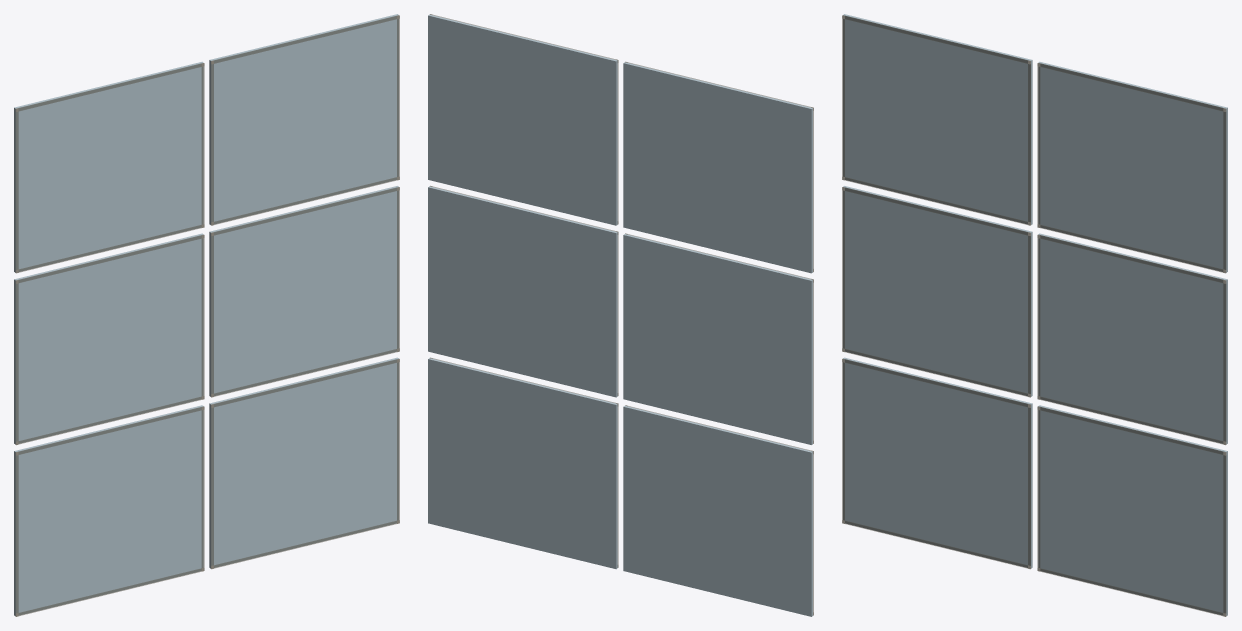
The model's file is BedroomWindowGlass.glb.
The picture shows the model from 3 angles, left to right: view 1: azimuth 30°, elevation 25°; view 2: azimuth 150°, elevation 25°; view 3: azimuth 330°, elevation 25°; orthographic projection.
Visible parts, largest first — view 1: ClearPane_0_2, ClearPane_0_1, ClearPane_0_0, ClearPane_1_0, ClearPane_1_2, ClearPane_1_1, BottomTopDust.007, BottomTopDust.009, BottomTopDust.010, BottomTopDust.011, BottomTopDust.008, BottomTopDust.006 (+12 smaller); view 2: ClearPane_0_2, ClearPane_0_0, ClearPane_0_1, ClearPane_1_0, ClearPane_1_1, ClearPane_1_2; view 3: ClearPane_1_2, ClearPane_1_1, ClearPane_1_0, ClearPane_0_0, ClearPane_0_2, ClearPane_0_1, BottomTopDust.001, BottomTopDust.003, BottomTopDust.004, BottomTopDust.005, BottomTopDust, BottomTopDust.002 (+12 smaller).
Part boxes in pixels (left/top/right/bottom): ClearPane_0_2: left=14, top=61, right=203, bottom=272; ClearPane_0_1: left=14, top=233, right=203, bottom=444; ClearPane_0_0: left=14, top=405, right=203, bottom=616; ClearPane_1_0: left=209, top=357, right=398, bottom=568; ClearPane_1_2: left=209, top=14, right=398, bottom=224; ClearPane_1_1: left=209, top=186, right=398, bottom=396; BottomTopDust.007: left=211, top=359, right=399, bottom=407; BottomTopDust.009: left=211, top=187, right=399, bottom=235; BottomTopDust.010: left=211, top=177, right=399, bottom=225; BottomTopDust.011: left=211, top=15, right=399, bottom=63; BottomTopDust.008: left=211, top=348, right=399, bottom=397; BottomTopDust.006: left=211, top=520, right=399, bottom=568; ClearPane_0_2: left=623, top=62, right=812, bottom=273; ClearPane_0_0: left=623, top=405, right=812, bottom=616; ClearPane_0_1: left=623, top=234, right=812, bottom=444; ClearPane_1_0: left=428, top=358, right=617, bottom=569; ClearPane_1_1: left=428, top=186, right=617, bottom=397; ClearPane_1_2: left=428, top=14, right=617, bottom=225; ClearPane_1_2: left=1038, top=61, right=1227, bottom=272; ClearPane_1_1: left=1038, top=233, right=1227, bottom=444; ClearPane_1_0: left=1038, top=405, right=1227, bottom=616; ClearPane_0_0: left=843, top=357, right=1032, bottom=568; ClearPane_0_2: left=843, top=14, right=1032, bottom=224; ClearPane_0_1: left=843, top=186, right=1032, bottom=396; BottomTopDust.001: left=842, top=359, right=1030, bottom=407; BottomTopDust.003: left=842, top=187, right=1030, bottom=235; BottomTopDust.004: left=842, top=177, right=1030, bottom=225; BottomTopDust.005: left=842, top=15, right=1030, bottom=63; BottomTopDust: left=842, top=520, right=1030, bottom=568; BottomTopDust.002: left=842, top=349, right=1030, bottom=397.
Size of the model in its own units: 3.77 by 4.77 by 0.0365.
